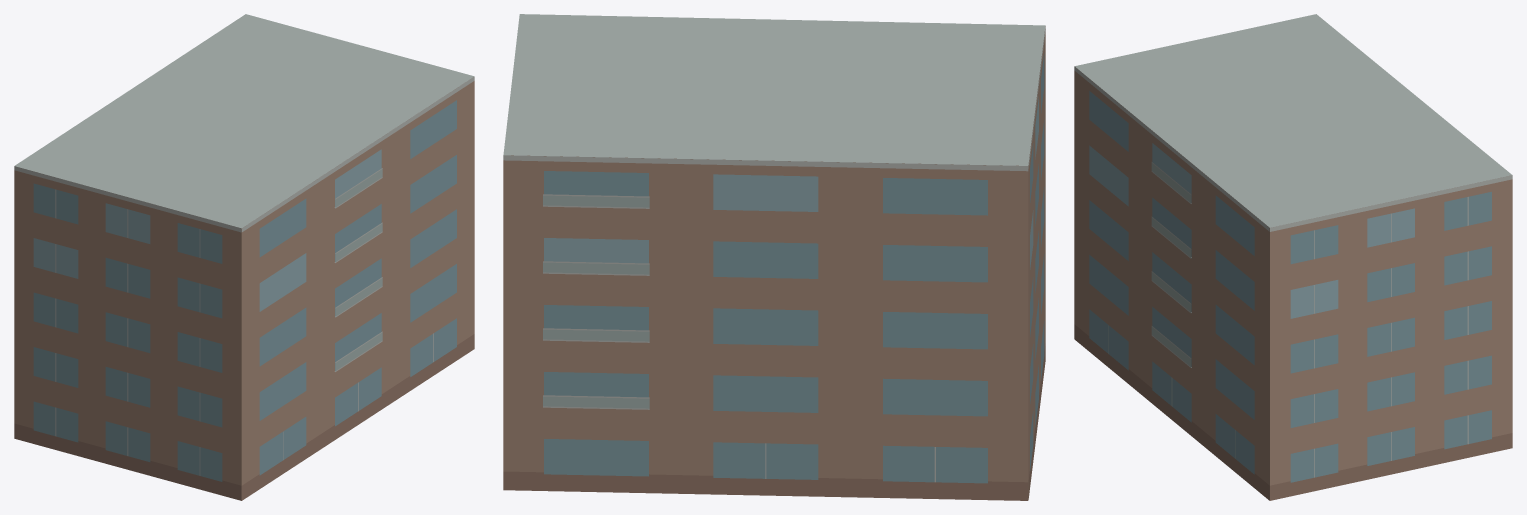
Rendered from survey-upis-33021310.glb.
3 views of the same model, side by side, from view 1: azimuth 30°, elevation 25°; view 2: azimuth 150°, elevation 25°; view 3: azimuth 270°, elevation 25° (orthographic). The views are drawn at different scales.
Parts seen in each view (by area): view 1: survey-upis-33021310.tmp; view 2: survey-upis-33021310.tmp; view 3: survey-upis-33021310.tmp.
Boxes of the visible parts, x1,y1,x2,y2 form: survey-upis-33021310.tmp: [14, 14, 474, 500]; survey-upis-33021310.tmp: [503, 14, 1045, 500]; survey-upis-33021310.tmp: [1074, 14, 1512, 500].
Bounding box in the file's own units: 26.37 × 15.7 × 22.83.
